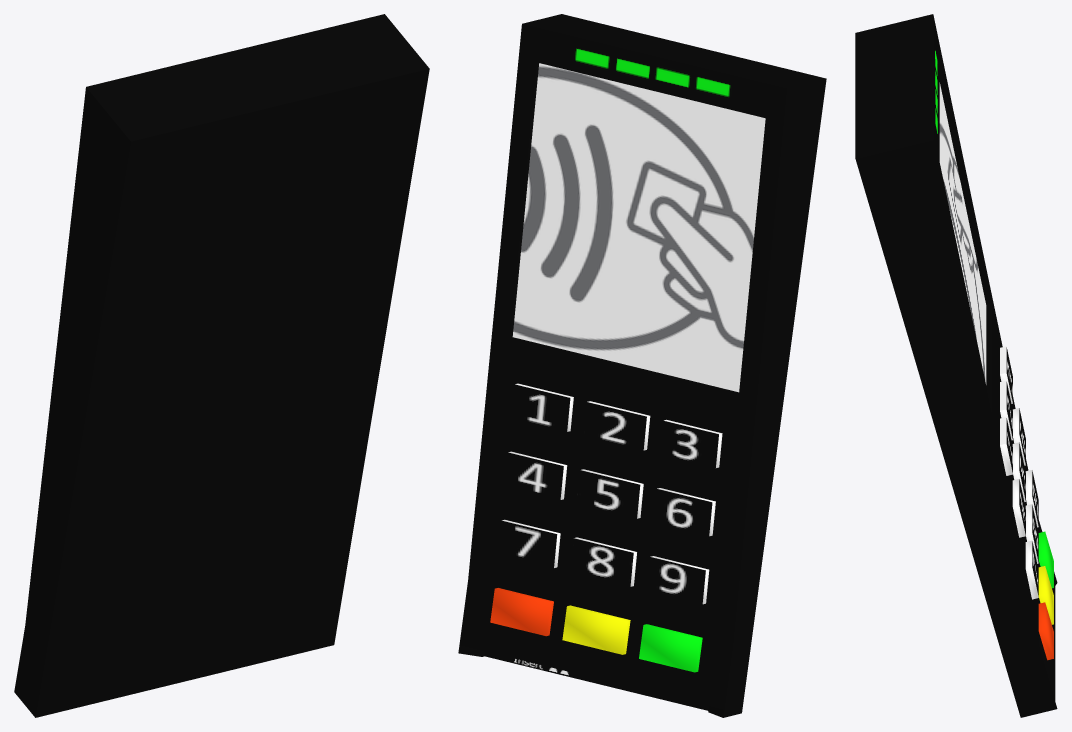
The model's file is Low Poly Eftpos Machine.glb.
3 renders of one model, left to right at view 1: azimuth 30°, elevation 25°; view 2: azimuth 150°, elevation 25°; view 3: azimuth 270°, elevation 25°, orthographic. The views are drawn at different scales.
Visible parts, largest first — view 1: Eftpos; view 2: Eftpos; view 3: Eftpos.
Boxes of the visible parts, bbox=[...] form: Eftpos: bbox=[14, 14, 429, 717]; Eftpos: bbox=[458, 14, 826, 717]; Eftpos: bbox=[855, 14, 1057, 717].
Bounding box in the file's own units: 0.0888 × 0.1898 × 0.0601.
Materials: 1 (1 with a texture image).
